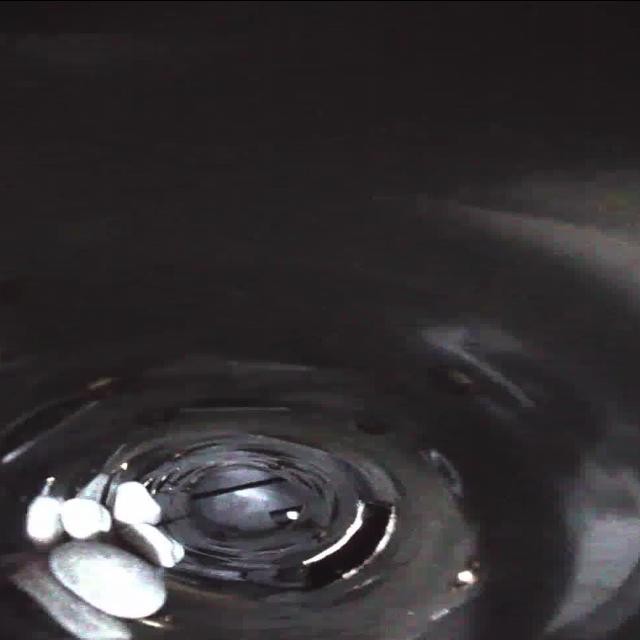crack: (183, 544, 249, 586), (165, 432, 235, 460), (255, 537, 302, 578), (125, 468, 193, 496), (248, 436, 300, 466), (310, 456, 340, 501), (331, 488, 360, 528), (142, 514, 176, 542)
hole: (300, 491, 404, 596)
